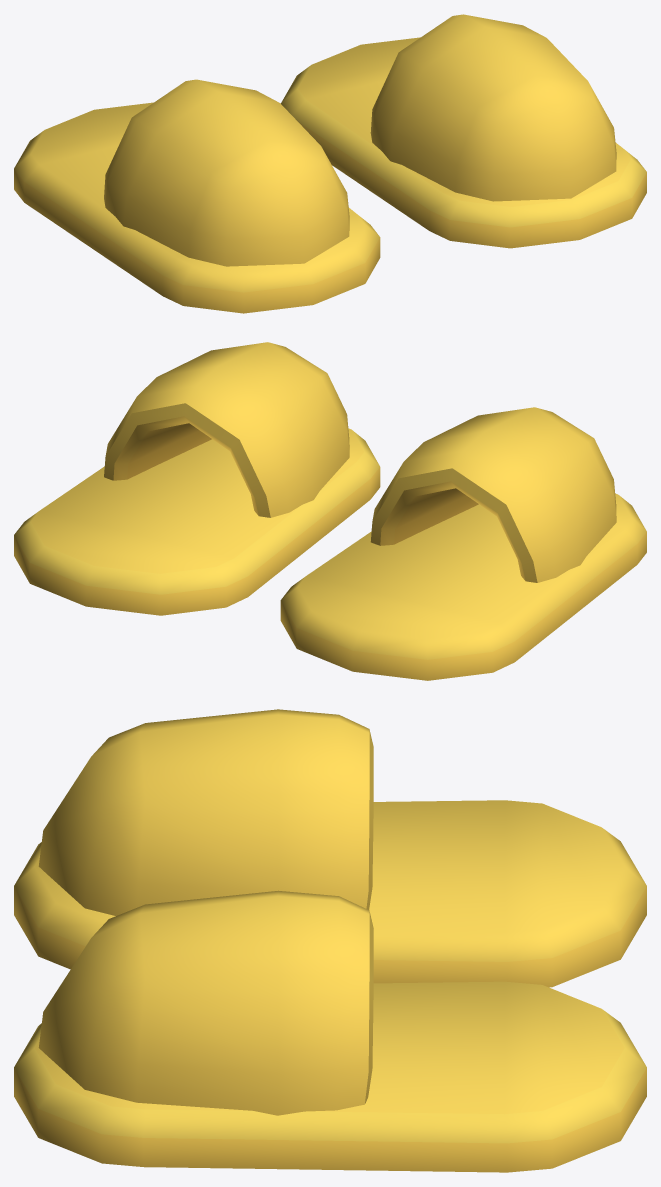
Rendered from Slippers.glb.
3 renders of one model, top to bottom at view 1: azimuth 30°, elevation 25°; view 2: azimuth 150°, elevation 25°; view 3: azimuth 270°, elevation 25°, orthographic. The views are drawn at different scales.
Visible parts, largest first — view 1: slippers; view 2: slippers; view 3: slippers.
Boxes of the visible parts, box(x1,y1,x2,y2) form: slippers: box(14, 14, 646, 313); slippers: box(14, 342, 646, 680); slippers: box(14, 709, 646, 1172).
Size of the model in its own units: 0.7354 by 0.2058 by 0.5898.
Materials: 1 (1 with a texture image).
